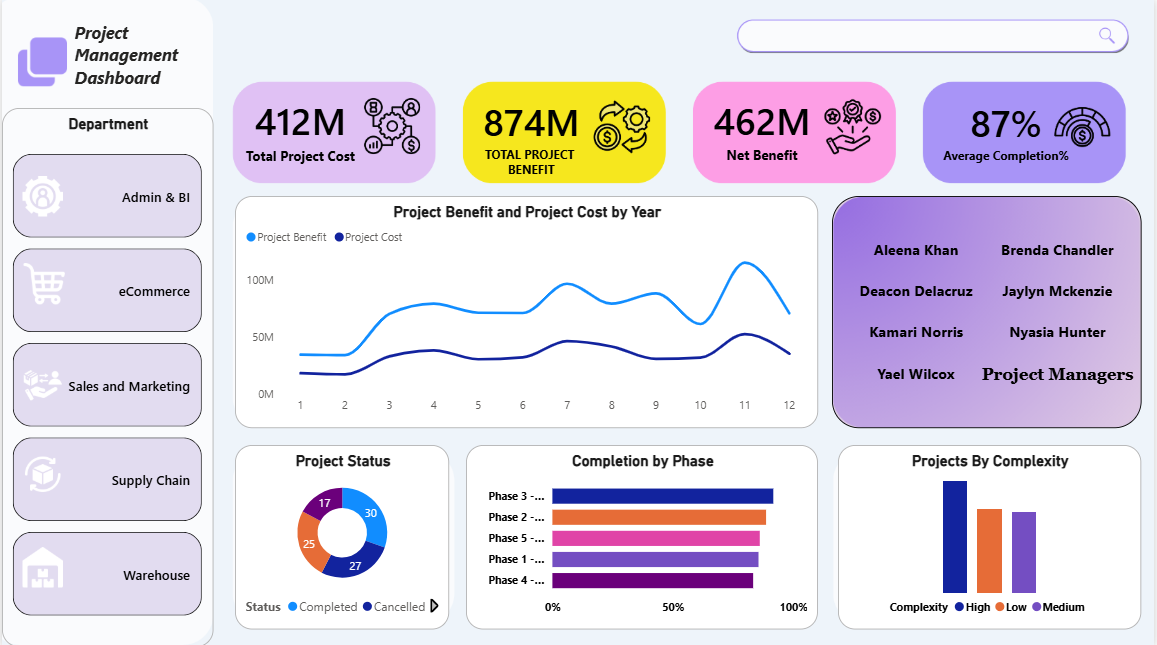

Layout of this report page (visuals, bound fields, positions):
{"tool":"powerbi","page":{"name":"Page 1","canvas":[1280,720],"ordinal":0},"visuals":[{"type":"advancedSlicerVisual","fields":{"Values":["Project Management Dataset.Department"]},"box":[0,121.1,234.6,599.2],"z":0,"group":"g1"},{"type":"textbox","box":[75.2,19.1,136.4,102],"z":0},{"type":"image","box":[17.8,186.1,54.8,65],"z":1000,"group":"g1"},{"type":"card","fields":{"Values":["Project Management Dataset.Total Project Cost"]},"box":[258.8,98.2,145.3,94.3],"z":1000},{"type":"card","fields":{"Values":["Project Management Dataset.TOTAL PROJECT BENEFIT"]},"box":[515.1,70.1,145.3,149.2],"z":2000},{"type":"card","fields":{"Values":["Project Management Dataset.Net Benefit"]},"box":[770,70.1,149.2,149.2],"z":3000},{"type":"card","fields":{"Values":["Project Management Dataset.Average Completion %age"]},"box":[1016.1,61.2,200.2,168.3],"z":4000},{"type":"lineChart","title":"Project Benefit  and Project Cost  by Year","fields":{"Y":["Project Management Dataset. Project Benefit ","Project Management Dataset. Project Cost "],"Category":["Project Management Dataset.Start Date.Variation.Date Hierarchy.Day"]},"box":[258.8,219.3,647.6,257.5],"z":5000},{"type":"advancedSlicerVisual","fields":{"Values":["Project Management Dataset.Project Manager"]},"box":[921.8,219.3,344.2,257.5],"z":6000},{"type":"textbox","box":[1079.8,401.6,186.1,54.8],"z":7000},{"type":"donutChart","title":"Project Status","fields":{"Category":["Project Management Dataset.Status"],"Y":["Project Management Dataset.Status"]},"box":[258.8,495.9,238.4,205.3],"z":8000},{"type":"clusteredBarChart","title":"Completion by Phase","fields":{"Category":["Project Management Dataset.Phase"],"Y":["Project Management Dataset.Average Completion%"]},"box":[515.1,495.9,391.4,205.3],"z":9000},{"type":"clusteredColumnChart","title":"Projects By Complexity","fields":{"Y":["Project Management Dataset.Complexity"],"Series":["Project Management Dataset.Complexity"]},"box":[929.4,495.9,336.6,205.3],"z":10000},{"type":"image","box":[17.8,283,54.8,65],"z":11000},{"type":"image","box":[17.8,396.5,54.8,65],"z":12000,"group":"g1"},{"type":"image","box":[17.8,495.9,54.8,65],"z":13000,"group":"g1"},{"type":"image","box":[17.8,599.2,54.8,65],"z":14000,"group":"g1"},{"type":"image","box":[19.1,283,56.1,65],"z":15001,"group":"g1"},{"type":"group","id":"g1","title":"Group 1","box":[0,121.1,234.6,599.2],"z":15002}]}

Visuals, with their boxes in screenshot pixels (x1, y1, x2, y2), scaled from the page's 1280x720 canvas onto the 1157x645 screenshot:
advancedSlicerVisual - Project Management Dataset.Department: l=0, t=108, r=212, b=644
textbox: l=68, t=17, r=191, b=108
image: l=16, t=167, r=66, b=225
card - Project Management Dataset.Total Project Cost: l=234, t=88, r=365, b=172
card - Project Management Dataset.TOTAL PROJECT BENEFIT: l=466, t=63, r=597, b=196
card - Project Management Dataset.Net Benefit: l=696, t=63, r=831, b=196
card - Project Management Dataset.Average Completion %age: l=918, t=55, r=1099, b=206
"Project Benefit  and Project Cost  by Year" lineChart: l=234, t=196, r=819, b=427
advancedSlicerVisual - Project Management Dataset.Project Manager: l=833, t=196, r=1144, b=427
textbox: l=976, t=360, r=1144, b=409
"Project Status" donutChart: l=234, t=444, r=449, b=628
"Completion by Phase" clusteredBarChart: l=466, t=444, r=819, b=628
"Projects By Complexity" clusteredColumnChart: l=840, t=444, r=1144, b=628
image: l=16, t=254, r=66, b=312
image: l=16, t=355, r=66, b=413
image: l=16, t=444, r=66, b=502
image: l=16, t=537, r=66, b=595
image: l=17, t=254, r=68, b=312
"Group 1" group: l=0, t=108, r=212, b=644
